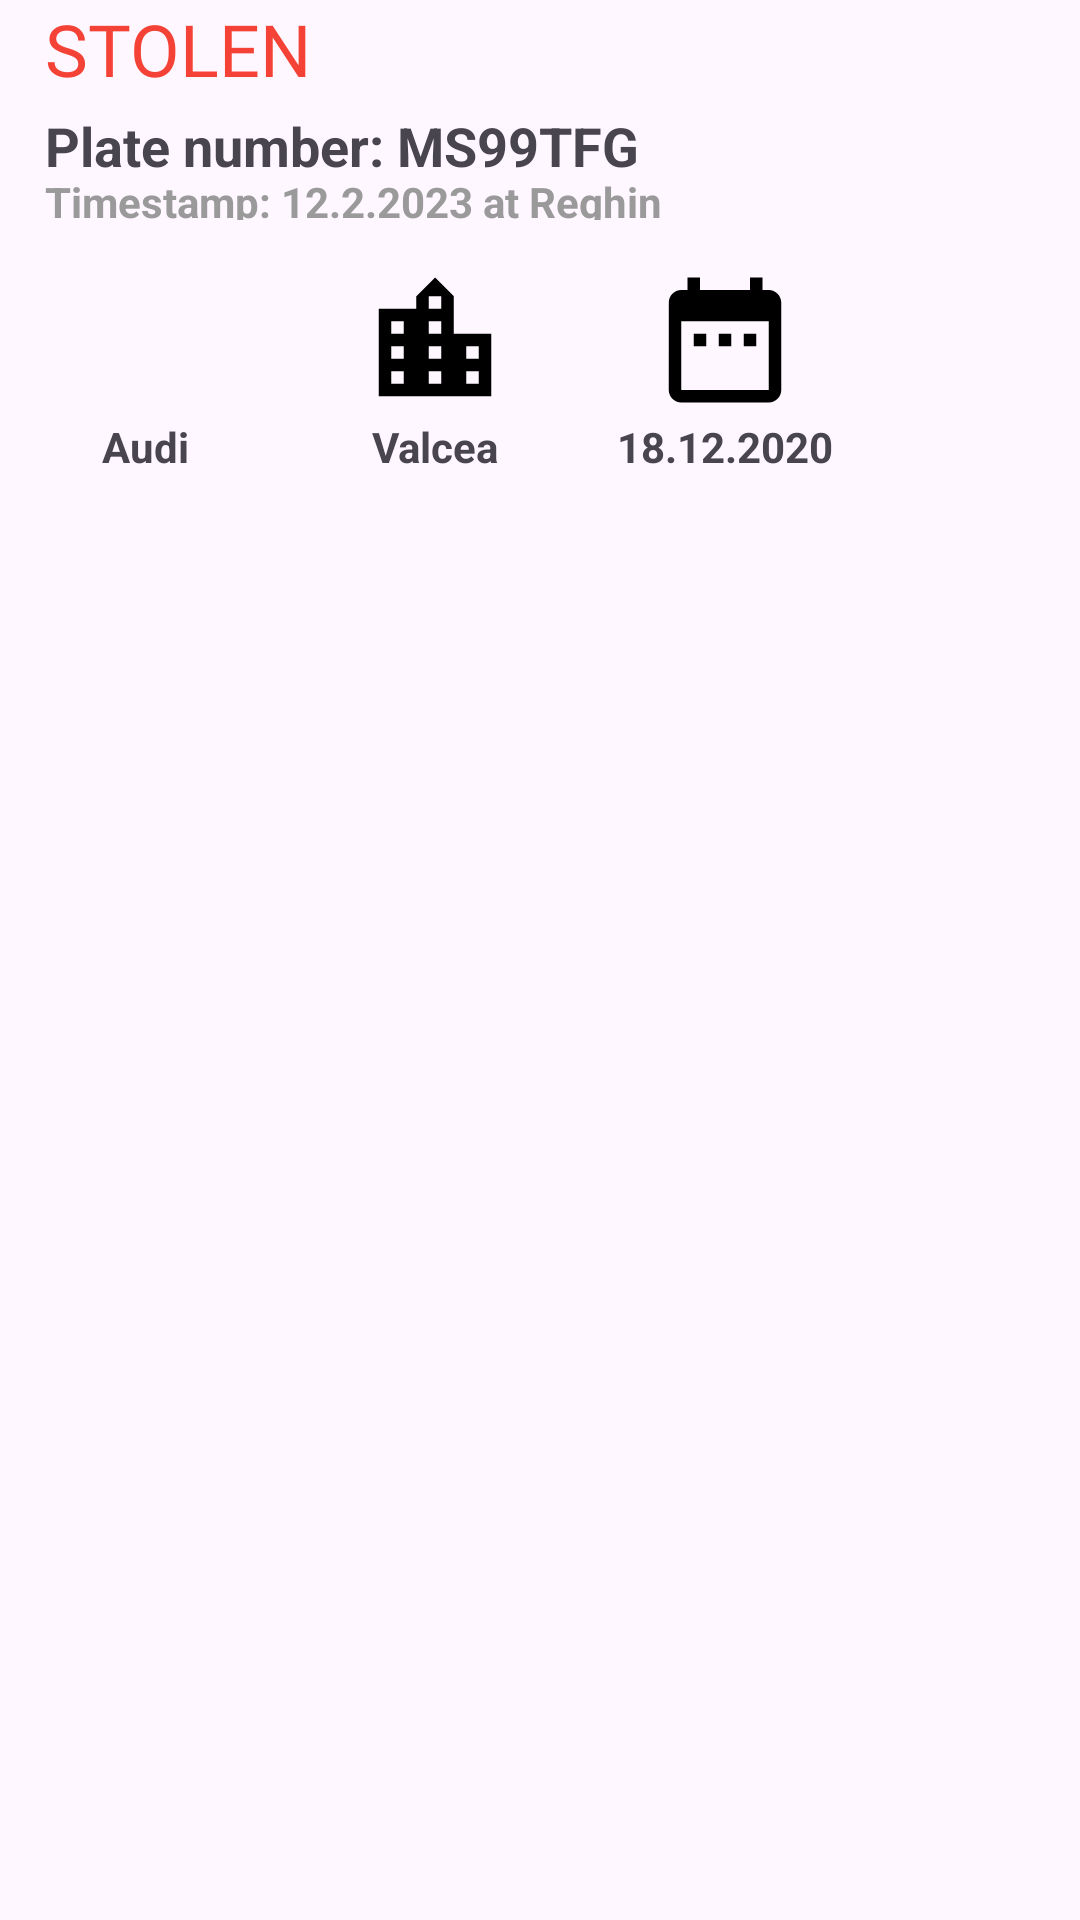

Icon click points for this 1080px×1920px phone screenshot, format (x=x, y=y):
date: (x=725, y=340)
location: (x=435, y=337)
